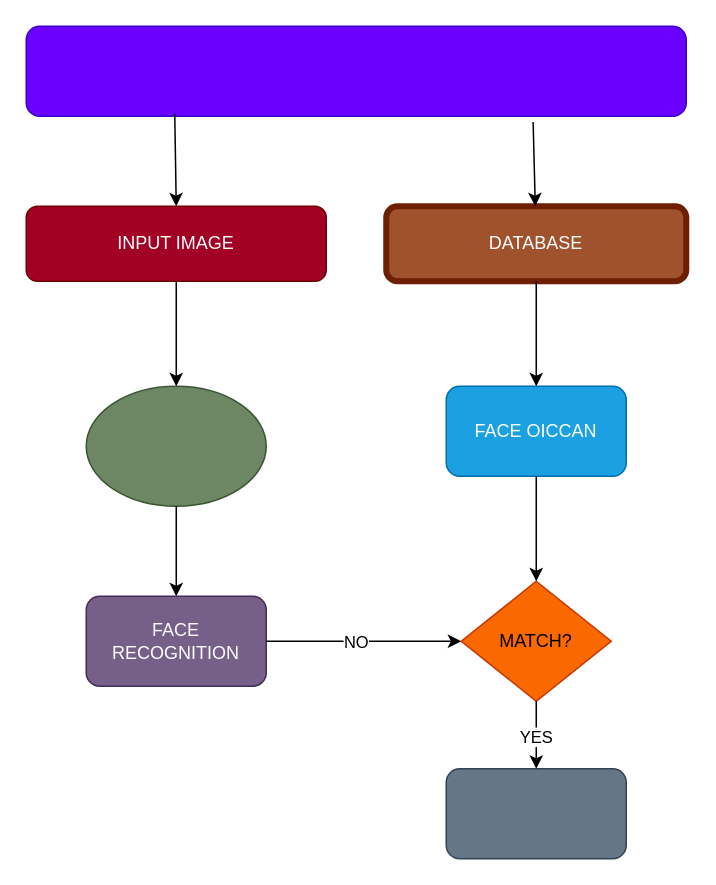
The diagram is 716 pixels wide and 885 high, and some of its shapes have lost their labels. The shapes that lost their labels are listed below. From the top down, each one's centre as x and y in pixels, then its label:
At (x=355, y=70): "FACE RECOGNITION ATTENDANCE SYSTEM".
At (x=175, y=445): "FACE DETECTION".
At (x=535, y=813): "ATTENDANCE MARKED".
